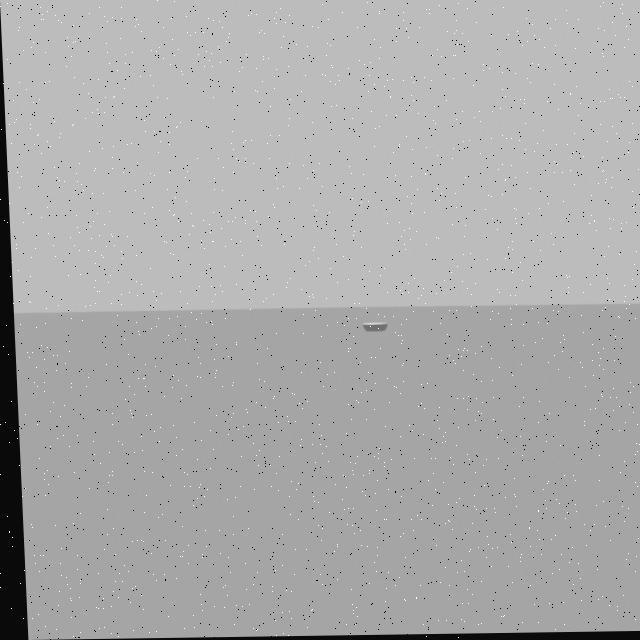bowl: (353, 315, 389, 346)
